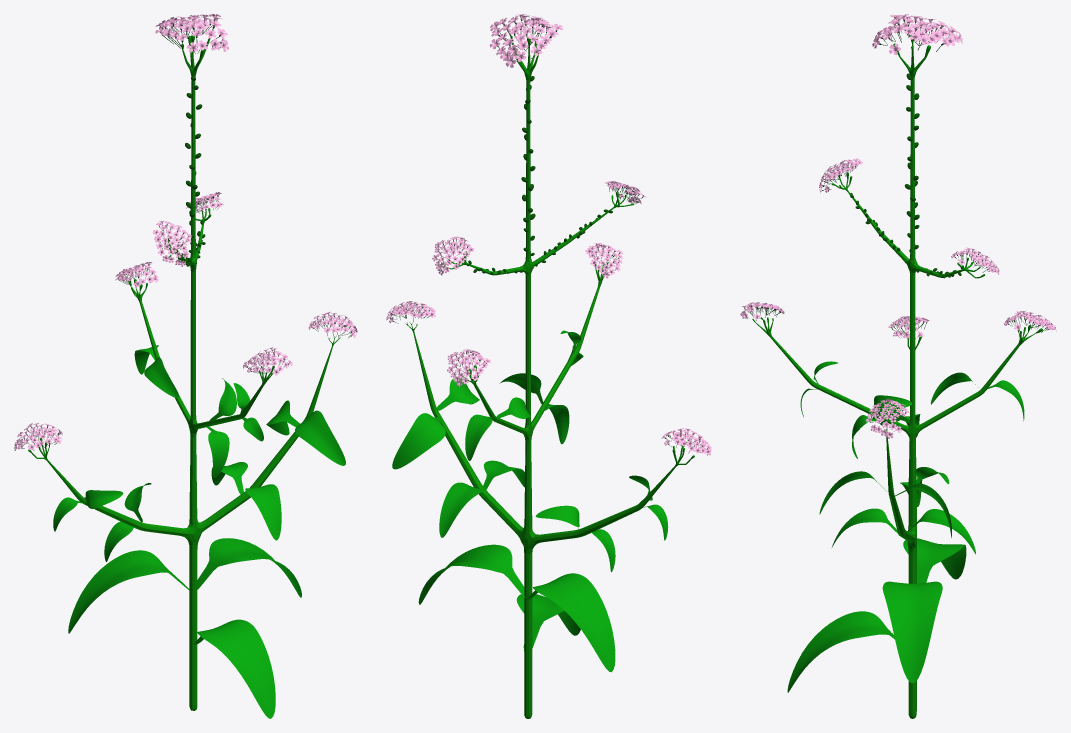
File: Stage2_Verbena_2.fbx
The picture shows the model from 3 angles, left to right: view 1: azimuth 30°, elevation 25°; view 2: azimuth 150°, elevation 25°; view 3: azimuth 270°, elevation 25°; orthographic projection.
Parts seen in each view (by area): view 1: Circle.015, Plane, Sphere.302, Sphere.232, Sphere.107, Sphere.175, Sphere.089, Sphere.020, Sphere.005; view 2: Circle.015, Plane, Sphere.302, Sphere.005, Sphere.233, Sphere.020, Sphere.175, Sphere.107, Sphere.089; view 3: Circle.015, Plane, Sphere.302, Sphere.089, Sphere.020, Sphere.232, Sphere.005, Sphere.233.
Part boxes in pixels (x1,y1,x2,y2): Circle.015: [53, 345, 345, 718]; Plane: [28, 35, 340, 710]; Sphere.302: [155, 14, 228, 53]; Sphere.232: [152, 221, 191, 266]; Sphere.107: [14, 423, 62, 450]; Sphere.175: [243, 347, 292, 375]; Sphere.089: [308, 311, 357, 337]; Sphere.020: [172, 76, 205, 266]; Sphere.005: [115, 262, 158, 287]; Circle.015: [392, 330, 668, 672]; Plane: [405, 35, 694, 718]; Sphere.302: [489, 14, 563, 67]; Sphere.005: [447, 349, 490, 386]; Sphere.233: [432, 236, 473, 275]; Sphere.020: [468, 76, 612, 274]; Sphere.175: [585, 243, 623, 278]; Sphere.107: [661, 428, 711, 455]; Sphere.089: [386, 301, 435, 323]; Circle.015: [787, 361, 1024, 692]; Plane: [752, 34, 1042, 718]; Sphere.302: [872, 14, 962, 54]; Sphere.089: [865, 398, 909, 438]; Sphere.020: [850, 73, 963, 278]; Sphere.232: [819, 158, 862, 193]; Sphere.005: [1004, 310, 1056, 332]; Sphere.233: [951, 247, 999, 274].
Bounding box in the file's own units: 933 × 1866 × 765.
